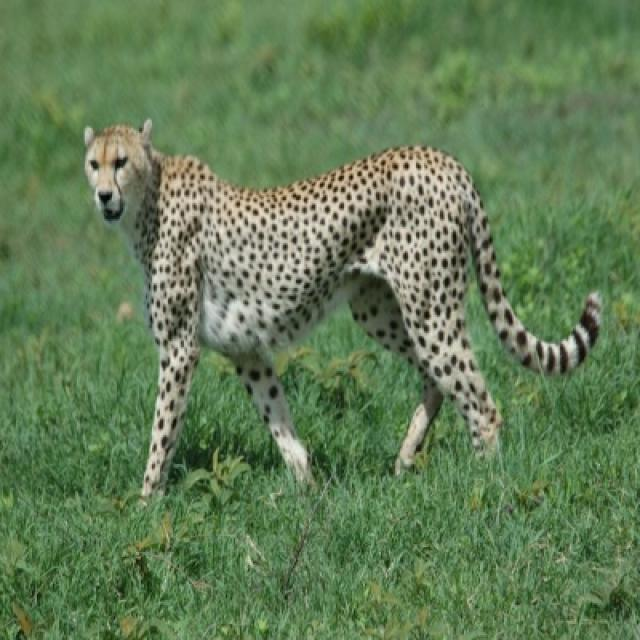Cheetah: (85, 120, 600, 501)
